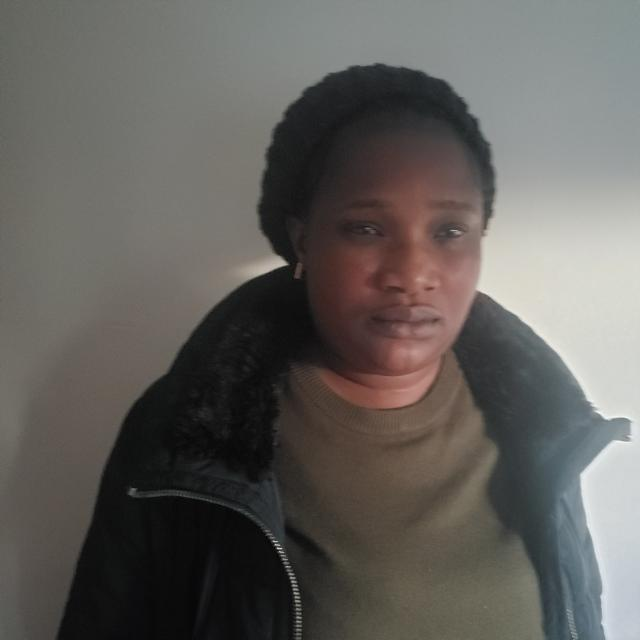sad: (288, 102, 501, 378)
